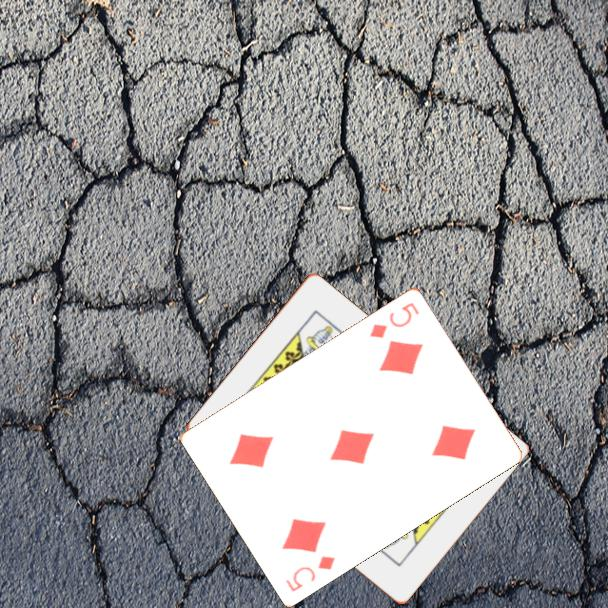d05: (366, 298, 422, 341), (282, 551, 338, 594)
